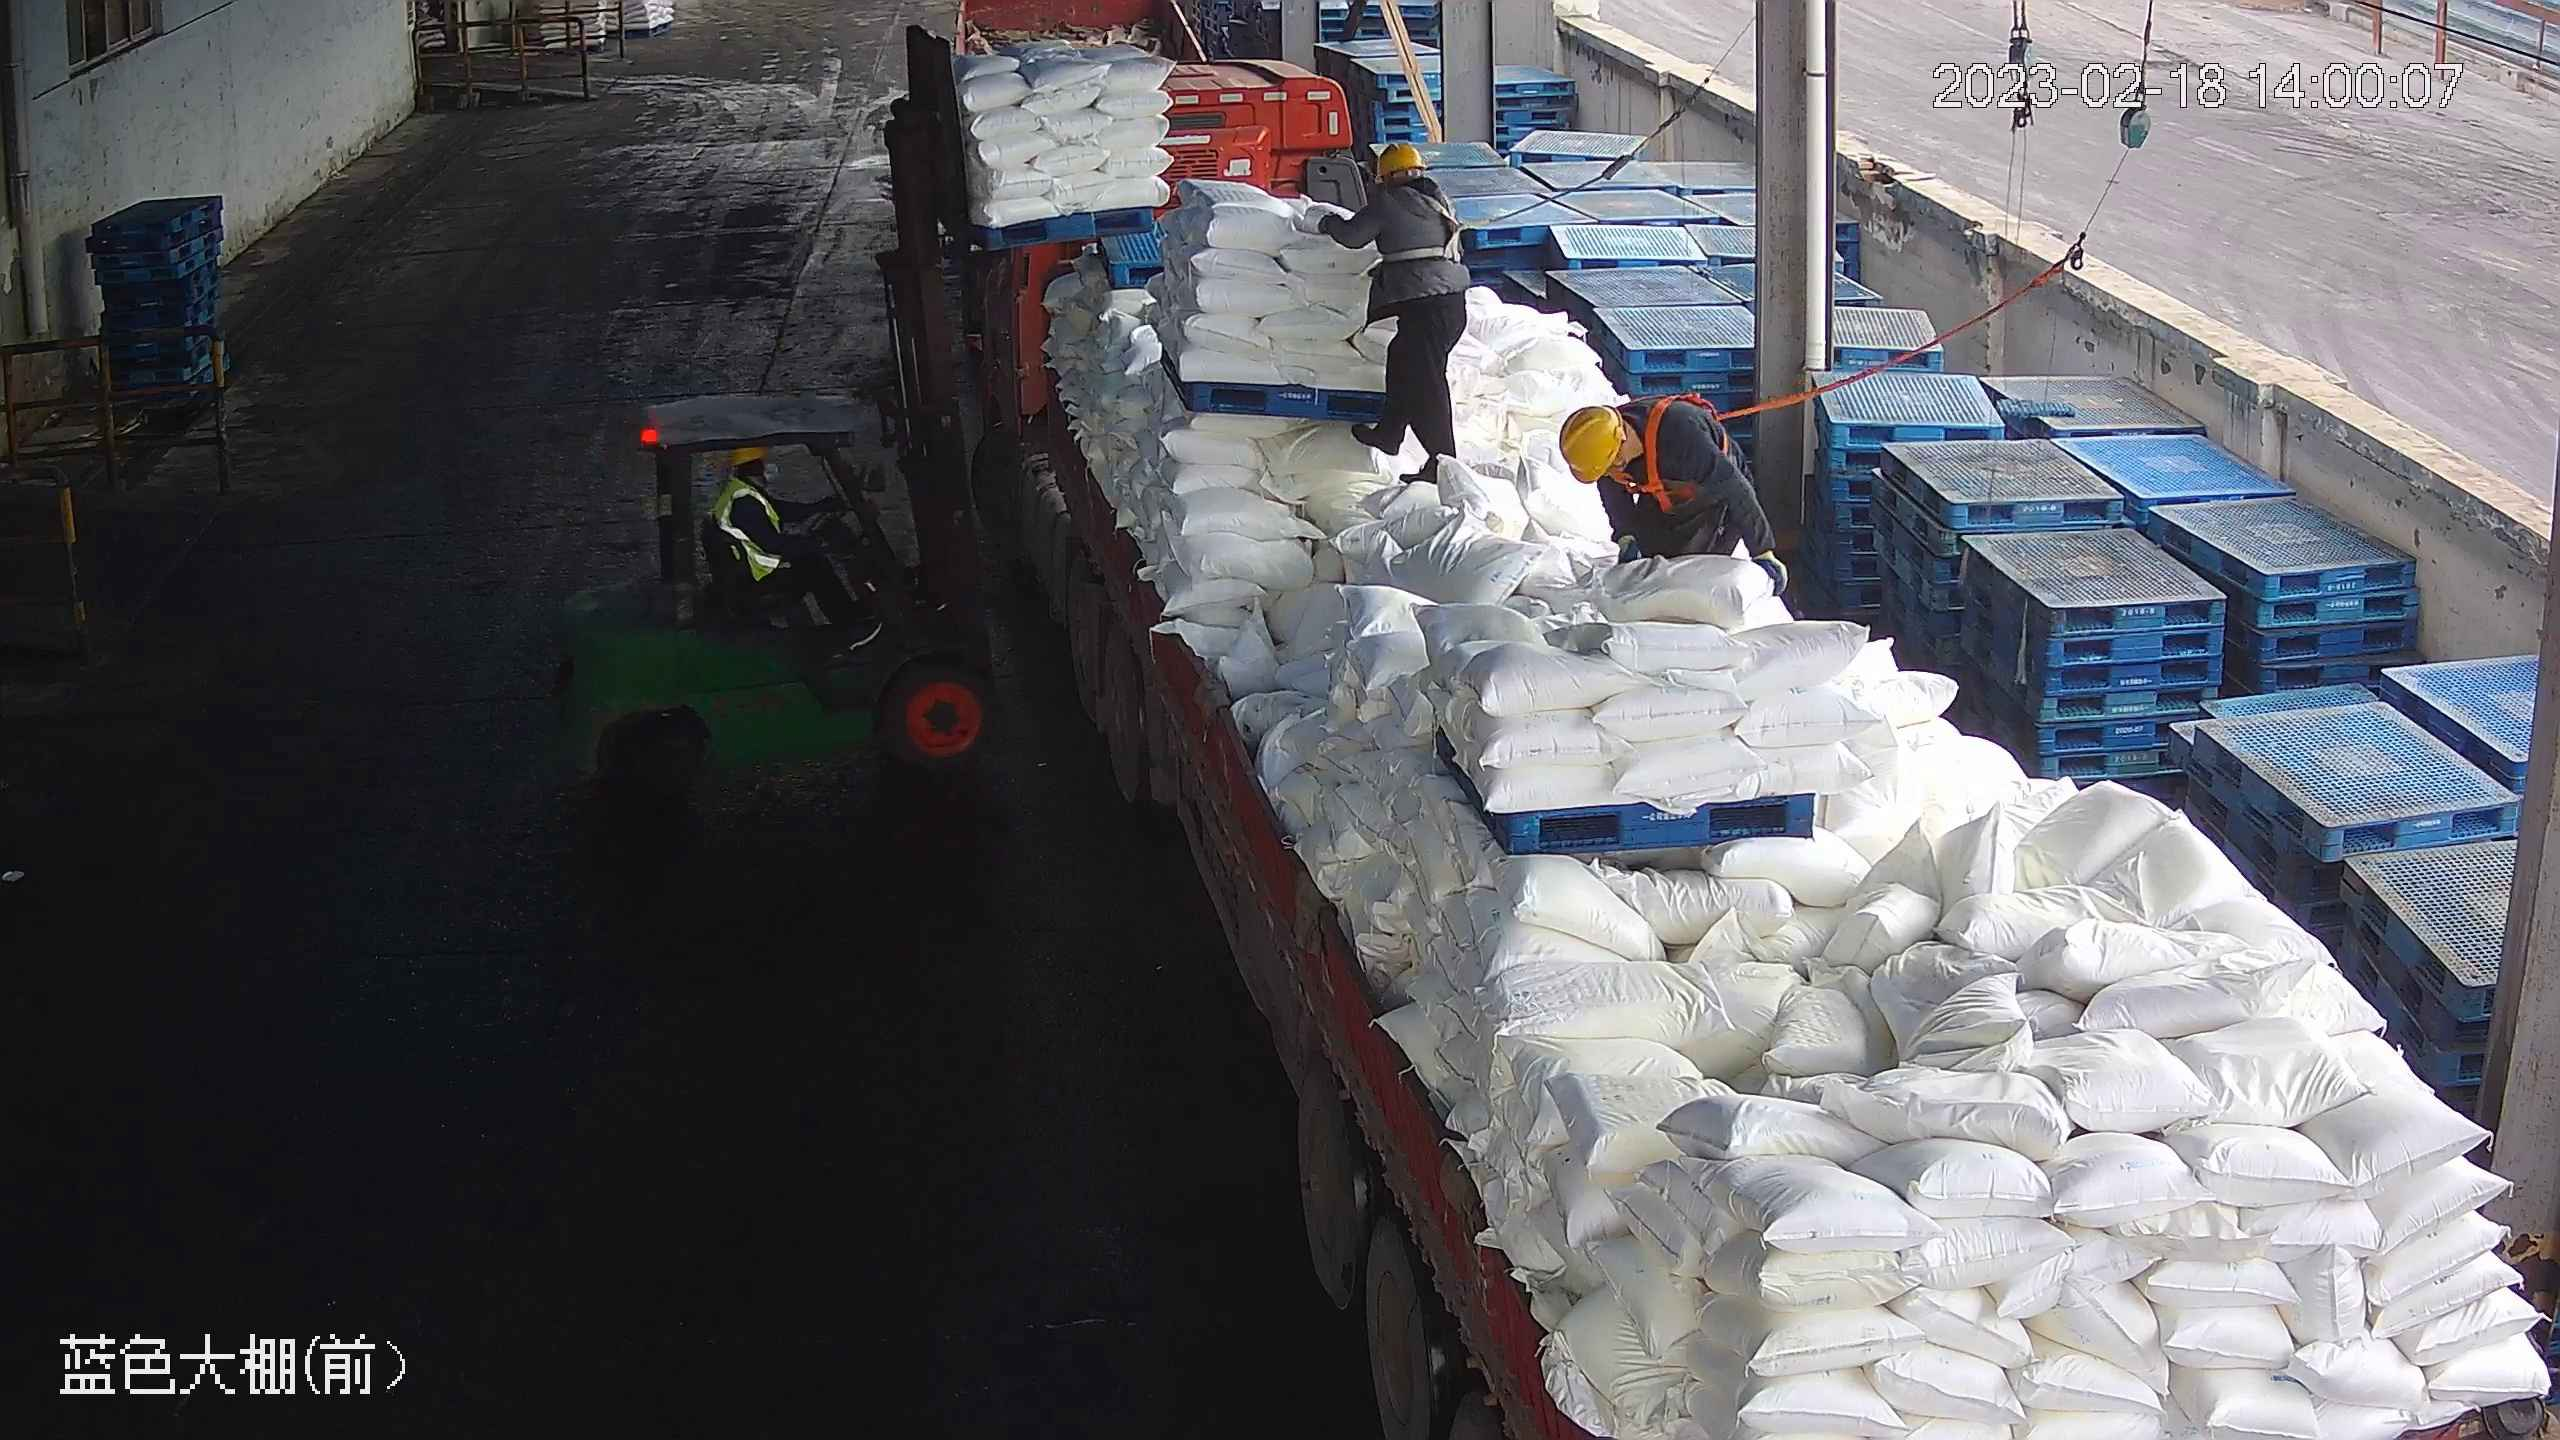belt: (1599, 392, 1730, 520), (1382, 185, 1490, 263)
head: (1558, 398, 1710, 488), (1364, 142, 1454, 217), (711, 445, 778, 514)
helmet: (1558, 404, 1626, 483), (1378, 142, 1429, 177)
people: (1303, 142, 1472, 486), (1558, 391, 1787, 598), (700, 442, 883, 651)
truck: (903, 60, 2560, 1440)
